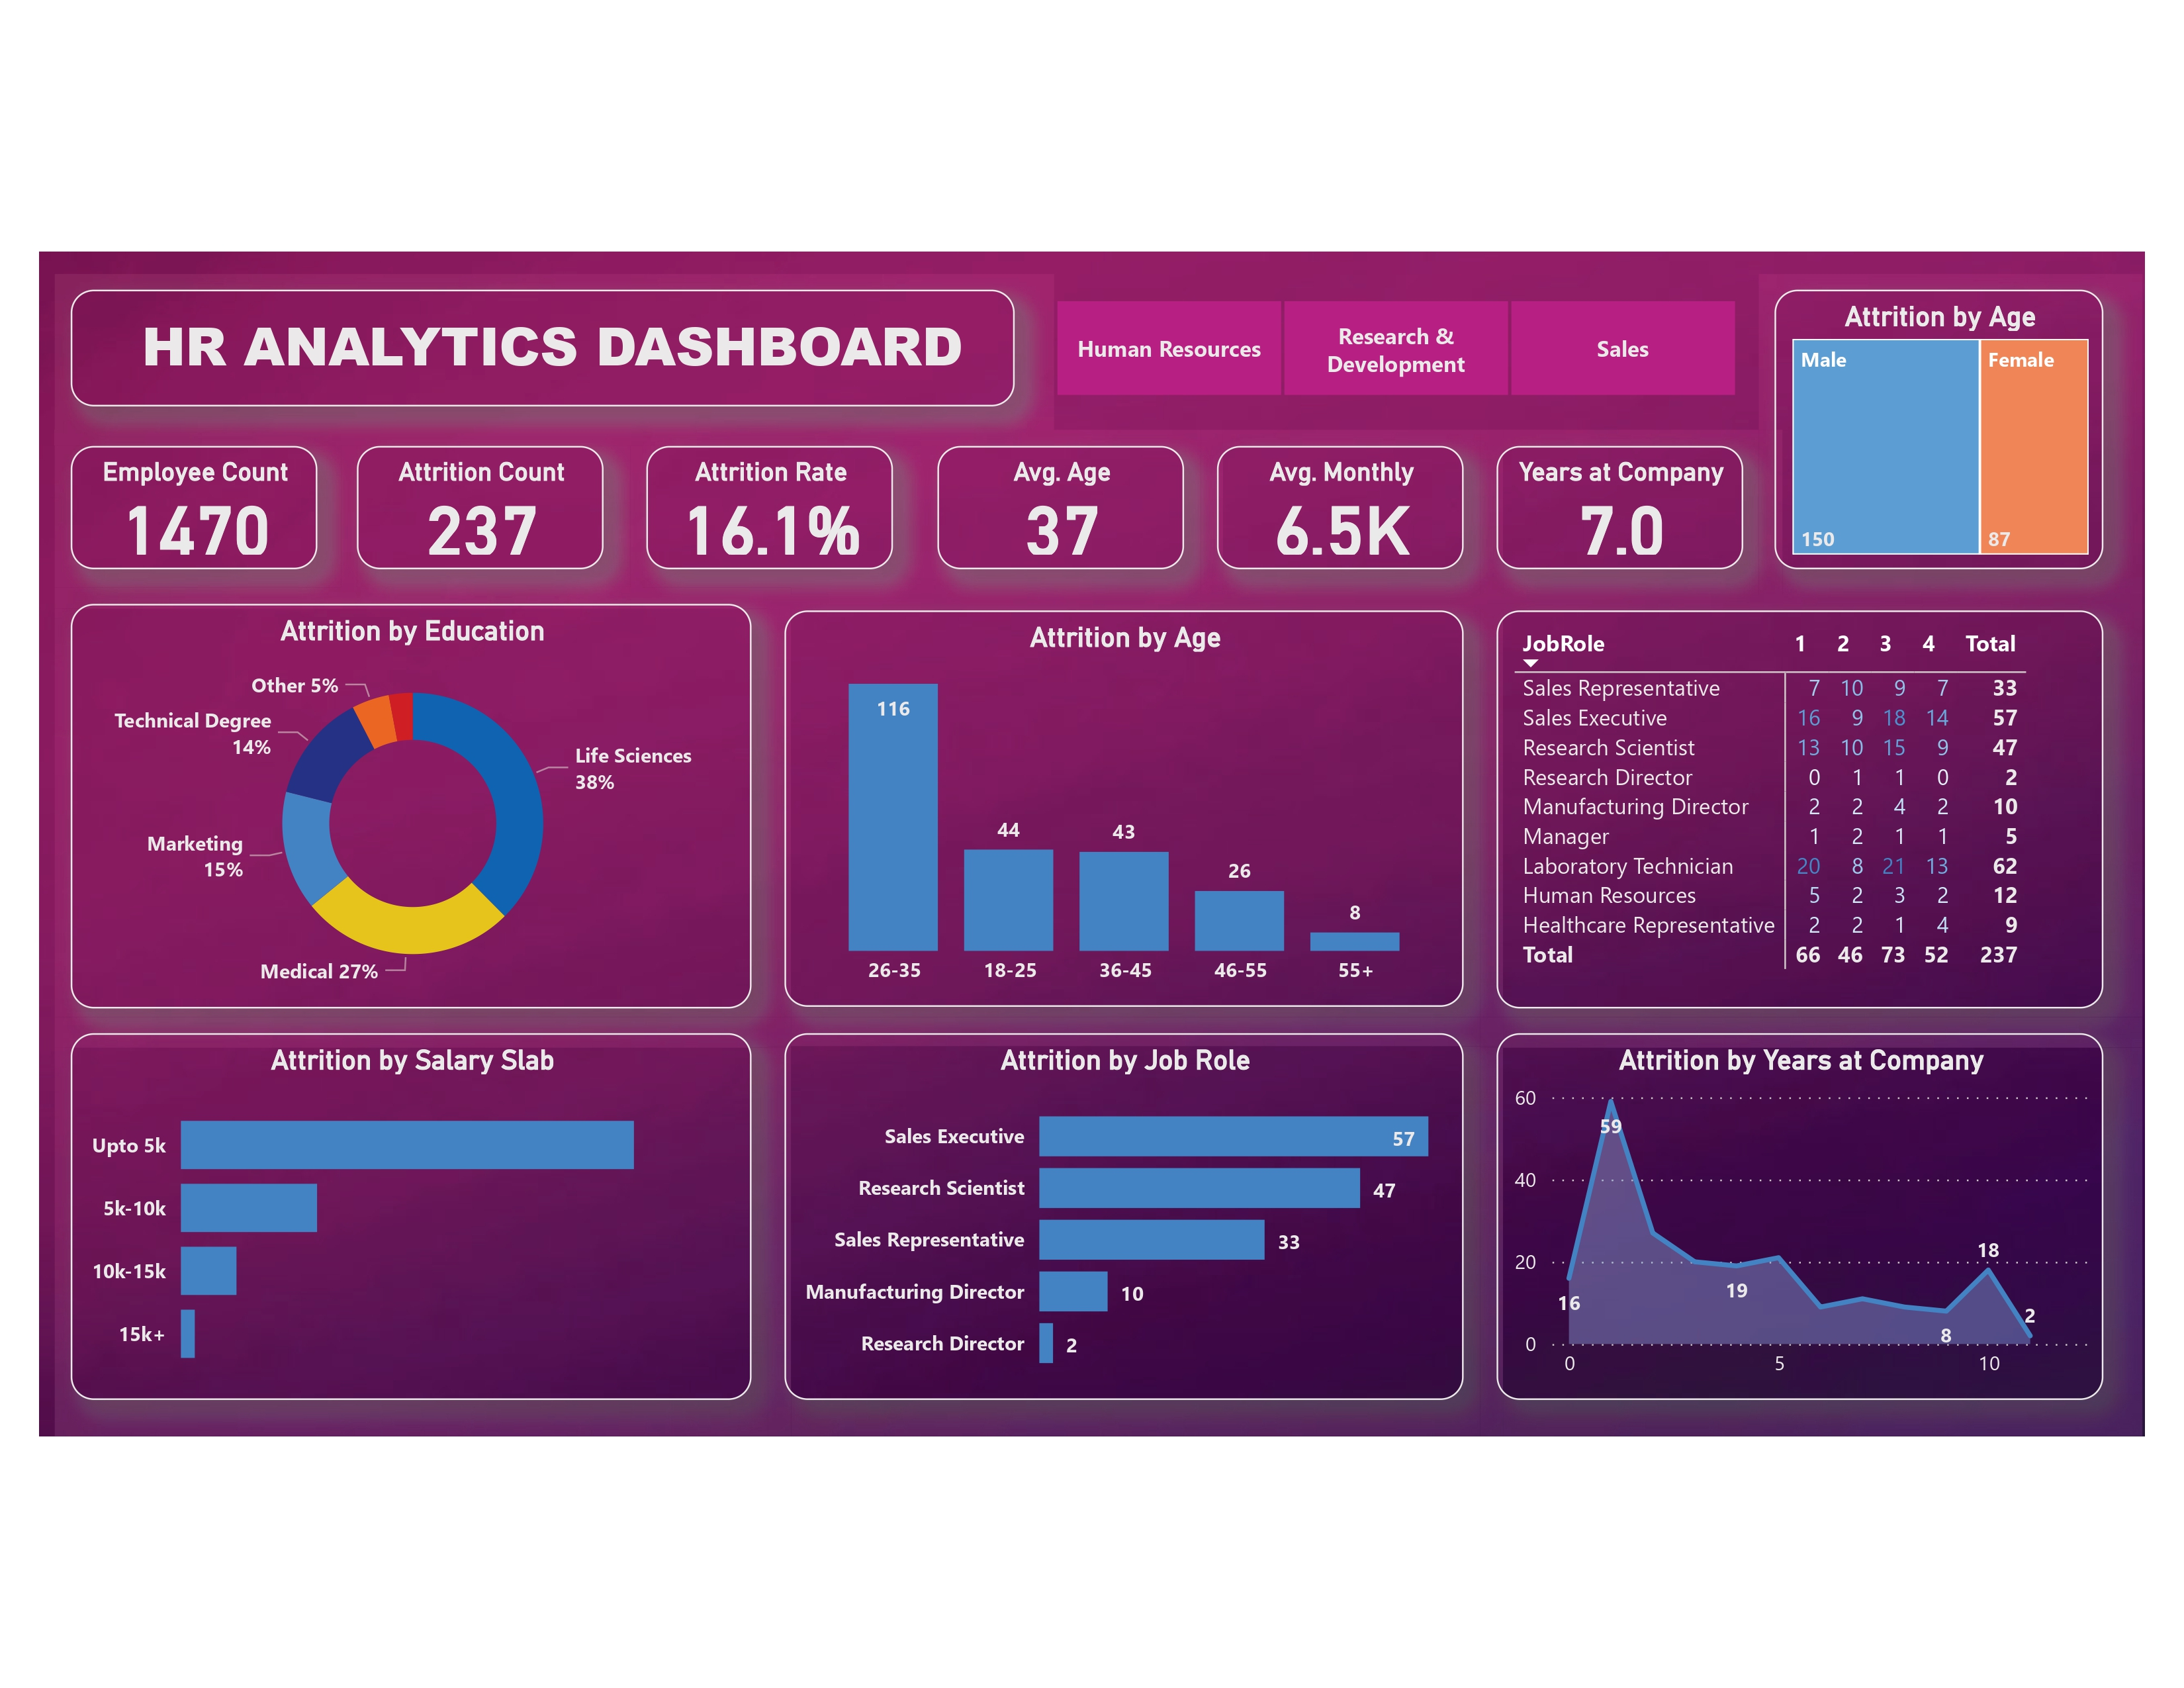

Layout of this report page (visuals, bound fields, positions):
{"tool":"powerbi","page":{"name":"Page 1","canvas":[1280,720],"ordinal":0},"visuals":[{"type":"card","title":"Employee Count","fields":{"Values":["CountNonNull(HR_Analytics.EmpID)"]},"box":[18.8,117.5,150,75],"z":0},{"type":"card","title":"Attrition Count","fields":{"Values":["Sum(HR_Analytics.AttritionCount)"]},"box":[192.5,117.5,150,75],"z":1000},{"type":"card","title":"Attrition Rate","fields":{"Values":["HR_Analytics.AttritionRate"]},"box":[368.8,117.5,150,75],"z":2000},{"type":"card","title":"Avg. Age ","fields":{"Values":["Avg(HR_Analytics.Age)"]},"box":[546.2,117.5,150,75],"z":3000},{"type":"card","title":"Avg. Monthly ","fields":{"Values":["Avg(HR_Analytics.MonthlyIncome)"]},"box":[716.2,117.5,150,75],"z":4000},{"type":"card","title":"Years at Company","fields":{"Values":["Avg(HR_Analytics.YearsAtCompany)"]},"box":[886.2,117.5,150,75],"z":5000},{"type":"donutChart","title":"Attrition by Education","fields":{"Category":["HR_Analytics.EducationField"],"Y":["Sum(HR_Analytics.AttritionCount)"]},"box":[18.8,213.8,413.8,246.2],"z":6000},{"type":"columnChart","title":"Attrition by Age","fields":{"Category":["HR_Analytics.AgeGroup"],"Y":["Sum(HR_Analytics.AttritionCount)"]},"box":[452.5,217.5,413.8,241.2],"z":7000},{"type":"pivotTable","fields":{"Rows":["HR_Analytics.JobRole"],"Columns":["HR_Analytics.JobSatisfaction"],"Values":["Sum(HR_Analytics.AttritionCount)"]},"box":[886.2,217.5,368.8,242.5],"z":8000},{"type":"barChart","title":"Attrition by Salary Slab","fields":{"Category":["HR_Analytics.SalarySlab"],"Y":["Sum(HR_Analytics.AttritionCount)"]},"box":[18.8,475,413.8,222.5],"z":9000},{"type":"barChart","title":"Attrition by Job Role","fields":{"Category":["HR_Analytics.JobRole"],"Y":["Sum(HR_Analytics.AttritionCount)"]},"box":[452.5,475,413.8,222.5],"z":10000},{"type":"treemap","title":"Attrition by Age","fields":{"Group":["HR_Analytics.Gender"],"Values":["Sum(HR_Analytics.AttritionCount)"]},"box":[1055,22.5,200,170],"z":11000},{"type":"slicer","fields":{"Values":["HR_Analytics.Department"]},"box":[592.5,22.5,462.5,71.2],"z":12000},{"type":"areaChart","title":"Attrition by Years at Company","fields":{"Category":["HR_Analytics.YearsAtCompany"],"Y":["Sum(HR_Analytics.AttritionCount)"]},"box":[886.2,475,368.8,222.5],"z":13000},{"type":"textbox","box":[18.8,22.5,573.8,71.2],"z":14000}]}

Visuals, with their boxes in screenshot pixels (x1, y1, x2, y2):
"Employee Count" card: 0:416:244:546
"Attrition Count" card: 285:416:546:546
"Attrition Rate" card: 592:416:854:546
"Avg. Age " card: 901:416:1163:546
"Avg. Monthly " card: 1199:416:1460:546
"Years at Company" card: 1495:416:1756:546
"Attrition by Education" donutChart: 0:584:704:1013
"Attrition by Age" columnChart: 738:590:1460:1011
pivotTable - HR_Analytics.JobRole x HR_Analytics.JobSatisfaction: 1495:590:2138:1013
"Attrition by Salary Slab" barChart: 0:1039:704:1428
"Attrition by Job Role" barChart: 738:1039:1460:1428
"Attrition by Age" treemap: 1790:250:2138:546
slicer - HR_Analytics.Department: 982:250:1790:374
"Attrition by Years at Company" areaChart: 1495:1039:2138:1428
textbox: 0:250:983:374
